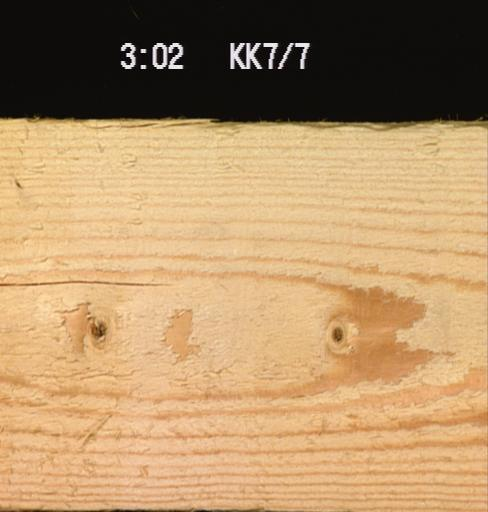small_knot: (329, 324, 343, 343)
sound_knot: (85, 312, 107, 350)
split: (0, 276, 173, 287)
